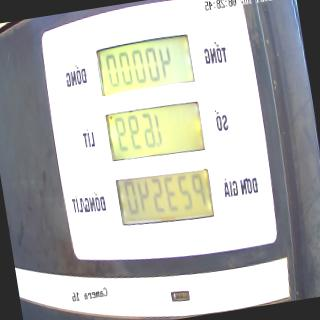screen: (92, 28, 220, 236)
